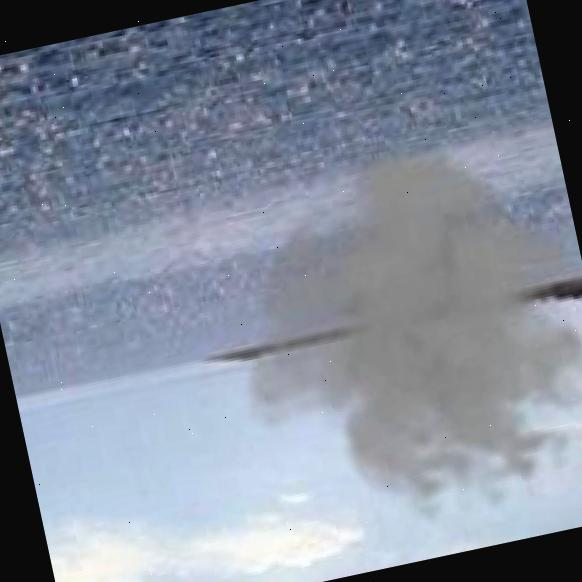smoke: (196, 108, 582, 559)
